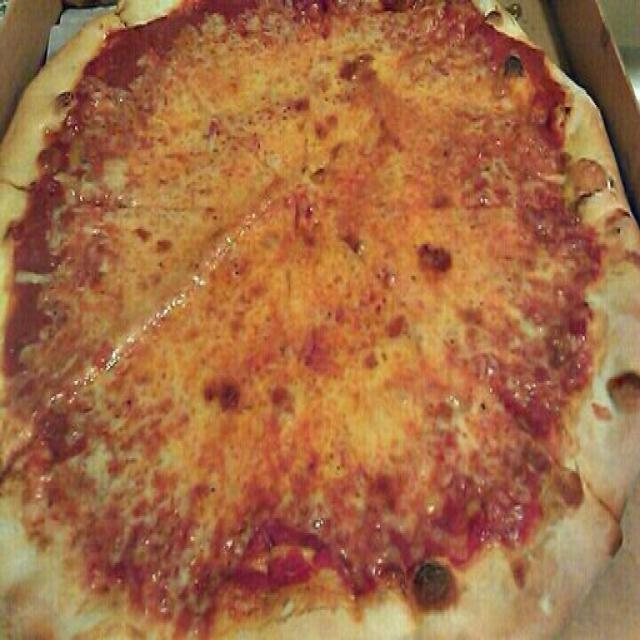Pizza: (0, 0, 640, 636)
